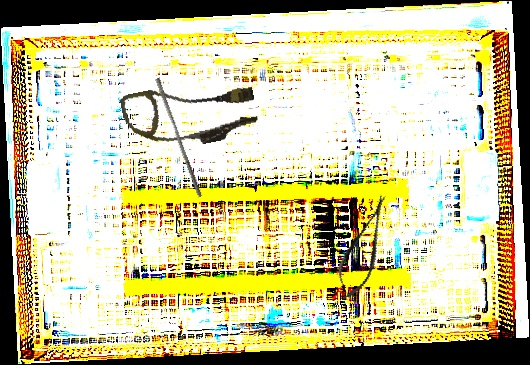Cannula: (119, 70, 261, 159)
Micro Scissor: (327, 189, 401, 307)
Pusher: (151, 77, 207, 198)
